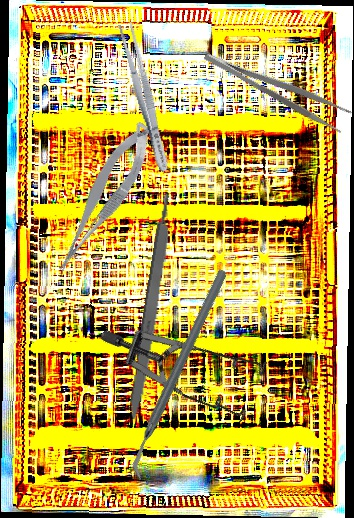Chopper: (68, 267, 291, 484)
Dressing Forceps: (201, 37, 353, 136), (115, 21, 174, 174)
Micro Scissor: (37, 118, 168, 277)
Scalpel Handle: (125, 191, 179, 427)
Speculum: (98, 264, 287, 460)
